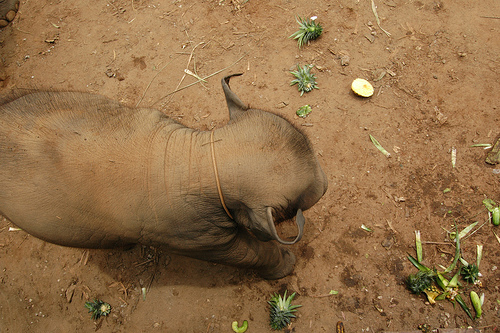elephant: (1, 74, 332, 275)
